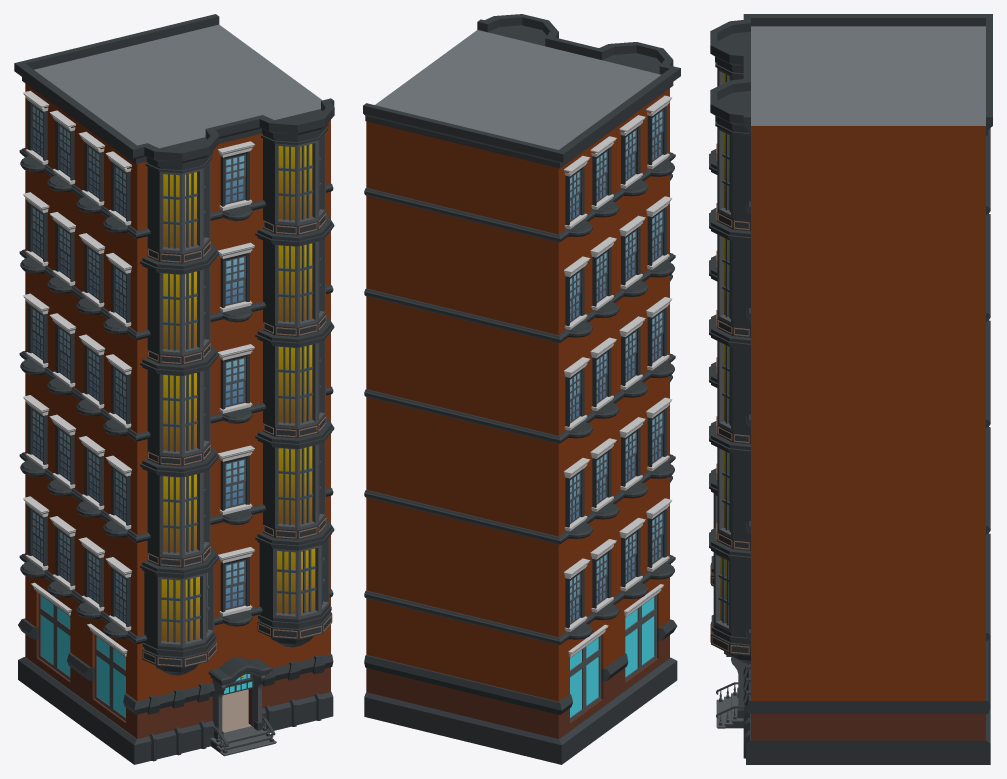
Rendered from SM_Buildings_House_07_V3.fbx.
The picture shows the model from 3 angles, left to right: view 1: azimuth 30°, elevation 25°; view 2: azimuth 150°, elevation 25°; view 3: azimuth 270°, elevation 25°; orthographic projection. The views are drawn at different scales.
Parts seen in each view (by area): view 1: SM_Buildings_House_07_V3; view 2: SM_Buildings_House_07_V3; view 3: SM_Buildings_House_07_V3.
Boxes of the visible parts, left/top/right/bottom form: SM_Buildings_House_07_V3: left=14, top=14, right=334, bottom=764; SM_Buildings_House_07_V3: left=363, top=14, right=680, bottom=764; SM_Buildings_House_07_V3: left=709, top=14, right=992, bottom=764.
Size of the model in its own units: 10.91 by 30.4 by 12.08.
